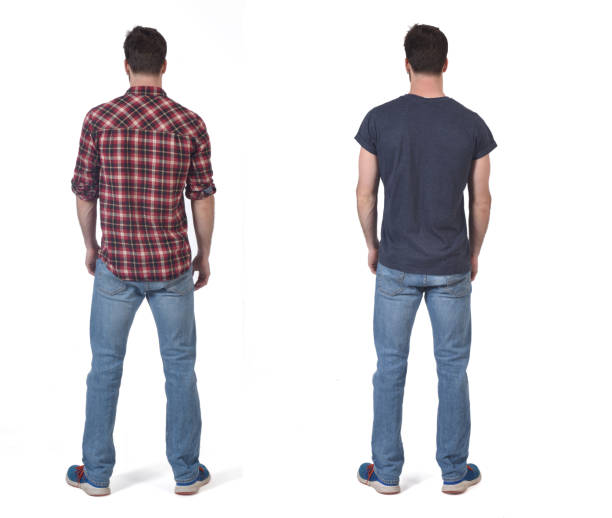Male: (312, 15, 526, 504), (64, 25, 218, 497)
